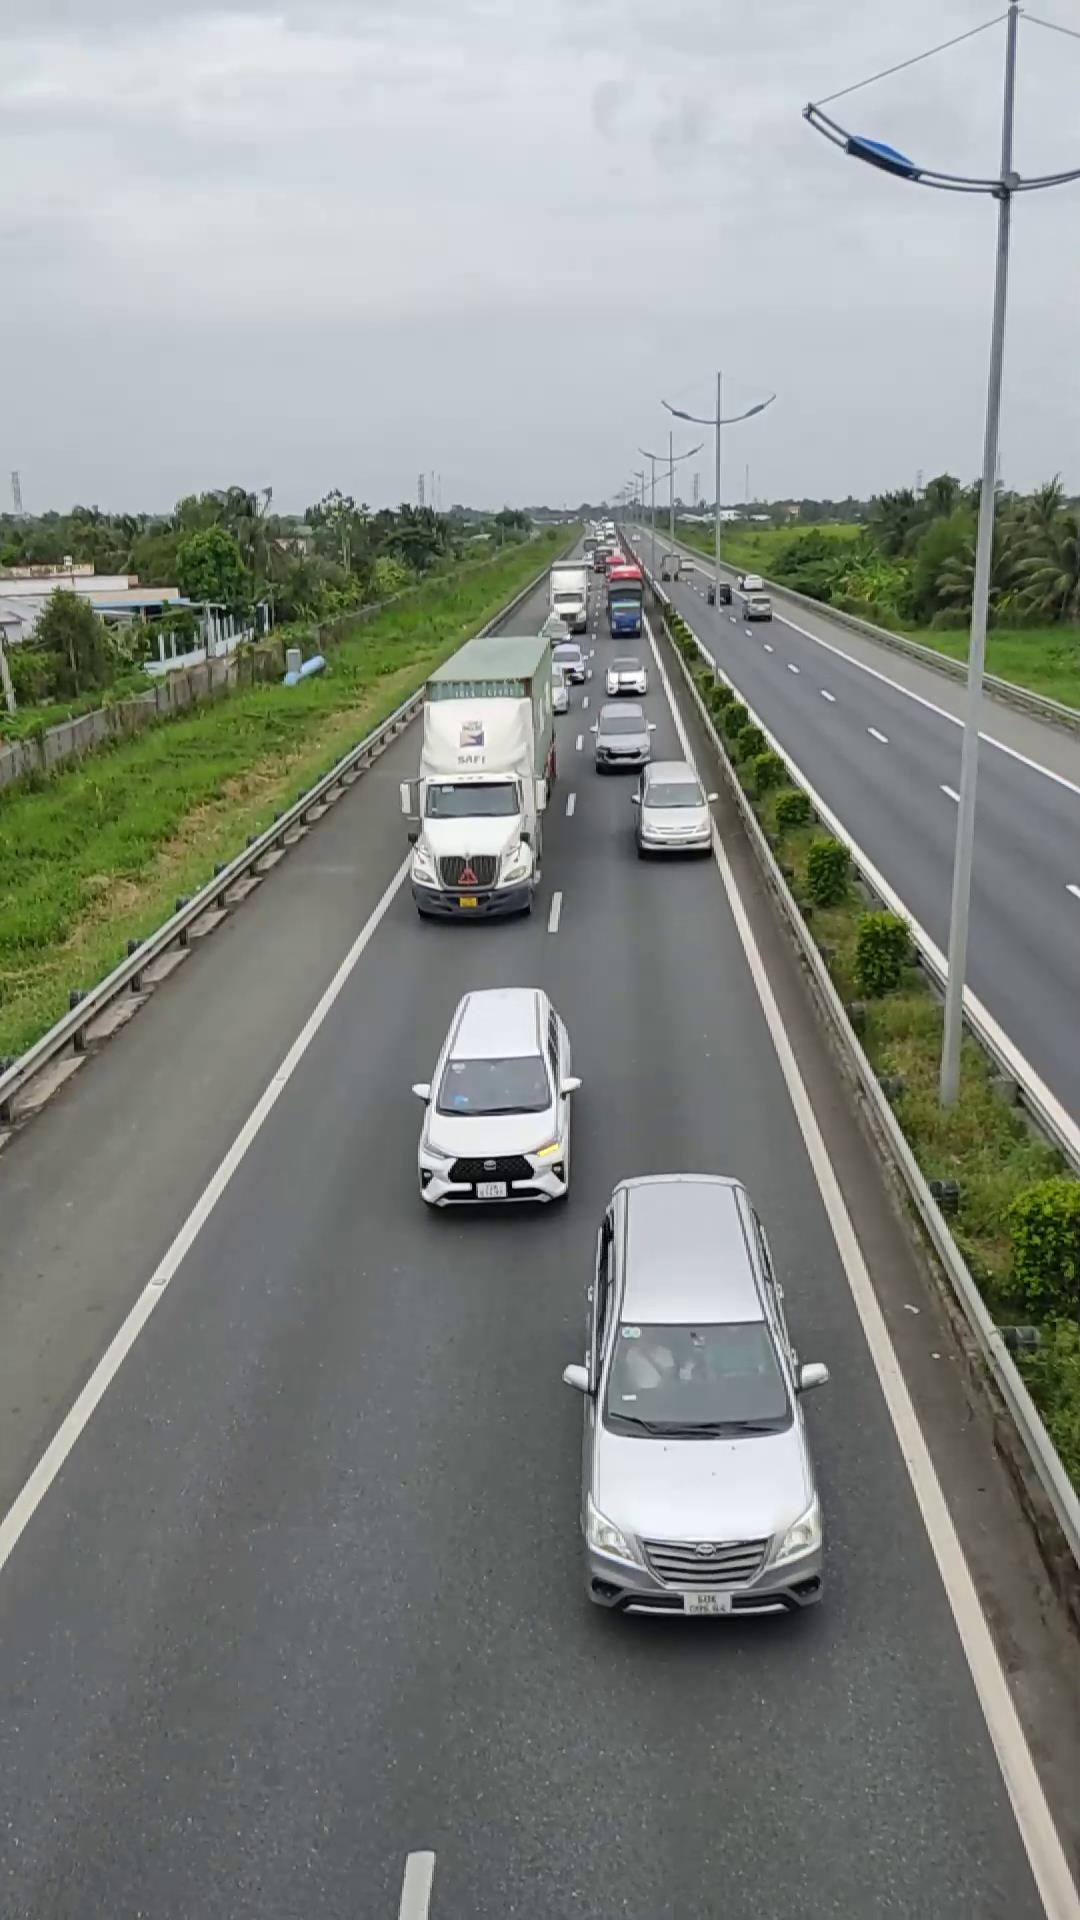car: (568, 1168, 829, 1619), (410, 984, 582, 1212), (632, 761, 717, 858)
container: (404, 632, 556, 919)
